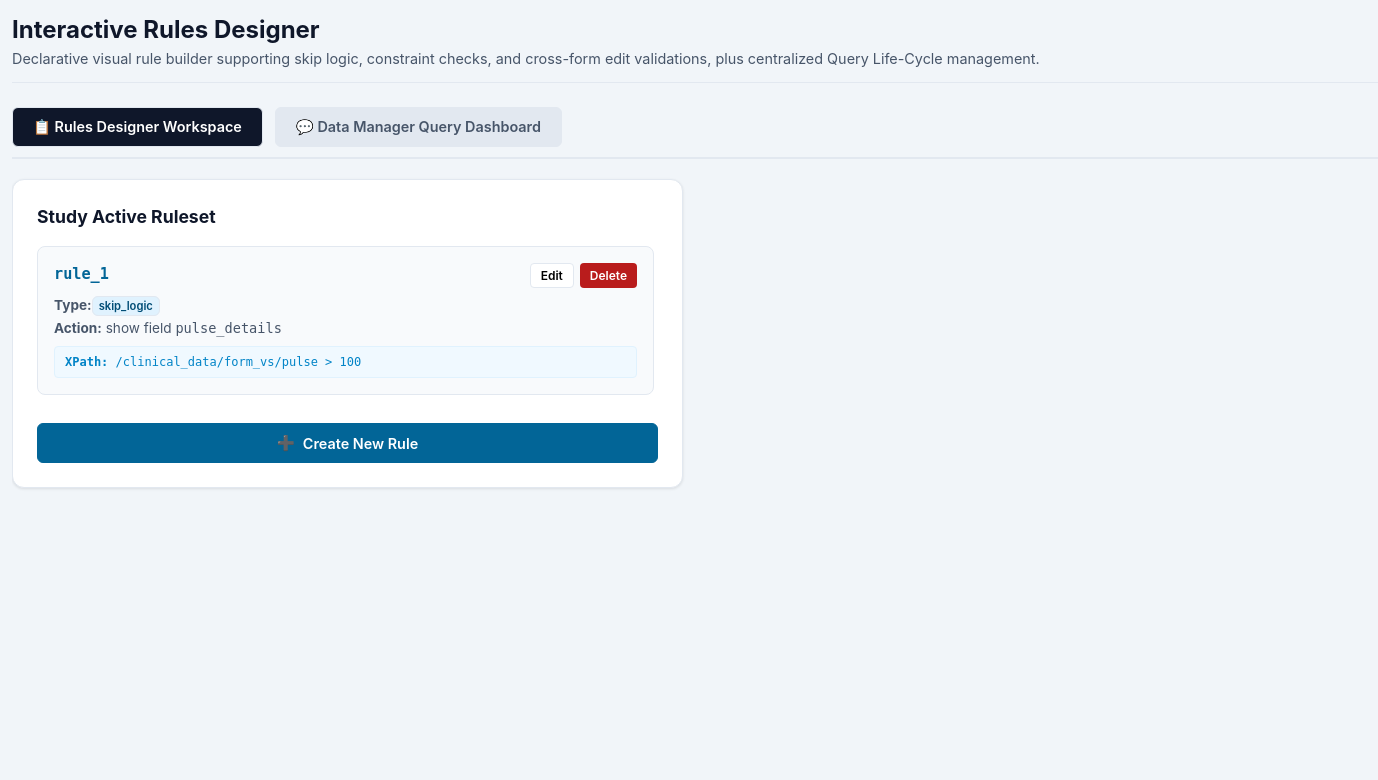
RulesView.vue - Clinical Rules Designer Workspace Specification › composes, compiles, and links custom rules to active visual fields
The image size is (1378, 780).
Click the button "➕ Create New Rule" at [348, 443], box x1=37 y1=423 x2=658 y2=463
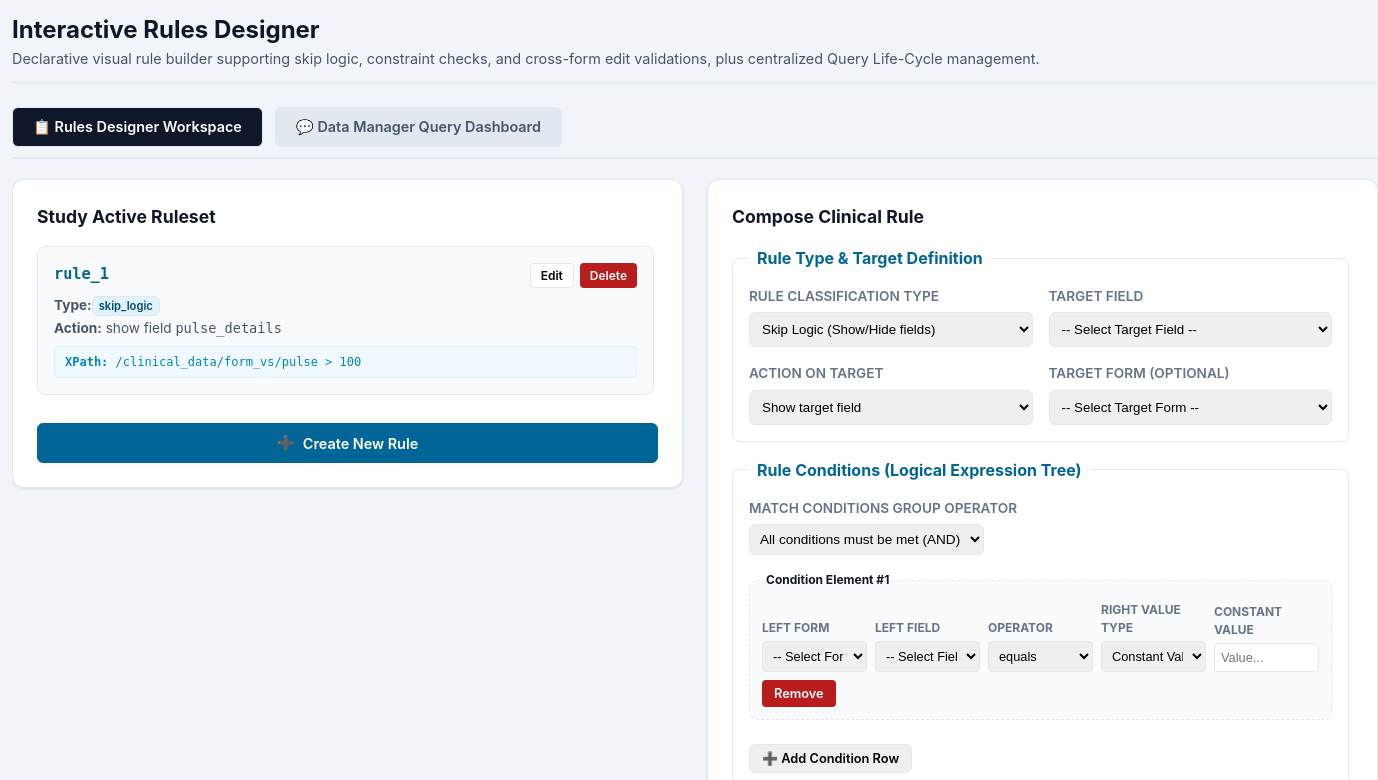
Now the dropdown with id "target-field-select" is shown, box x1=1048 y1=312 x2=1332 y2=347
